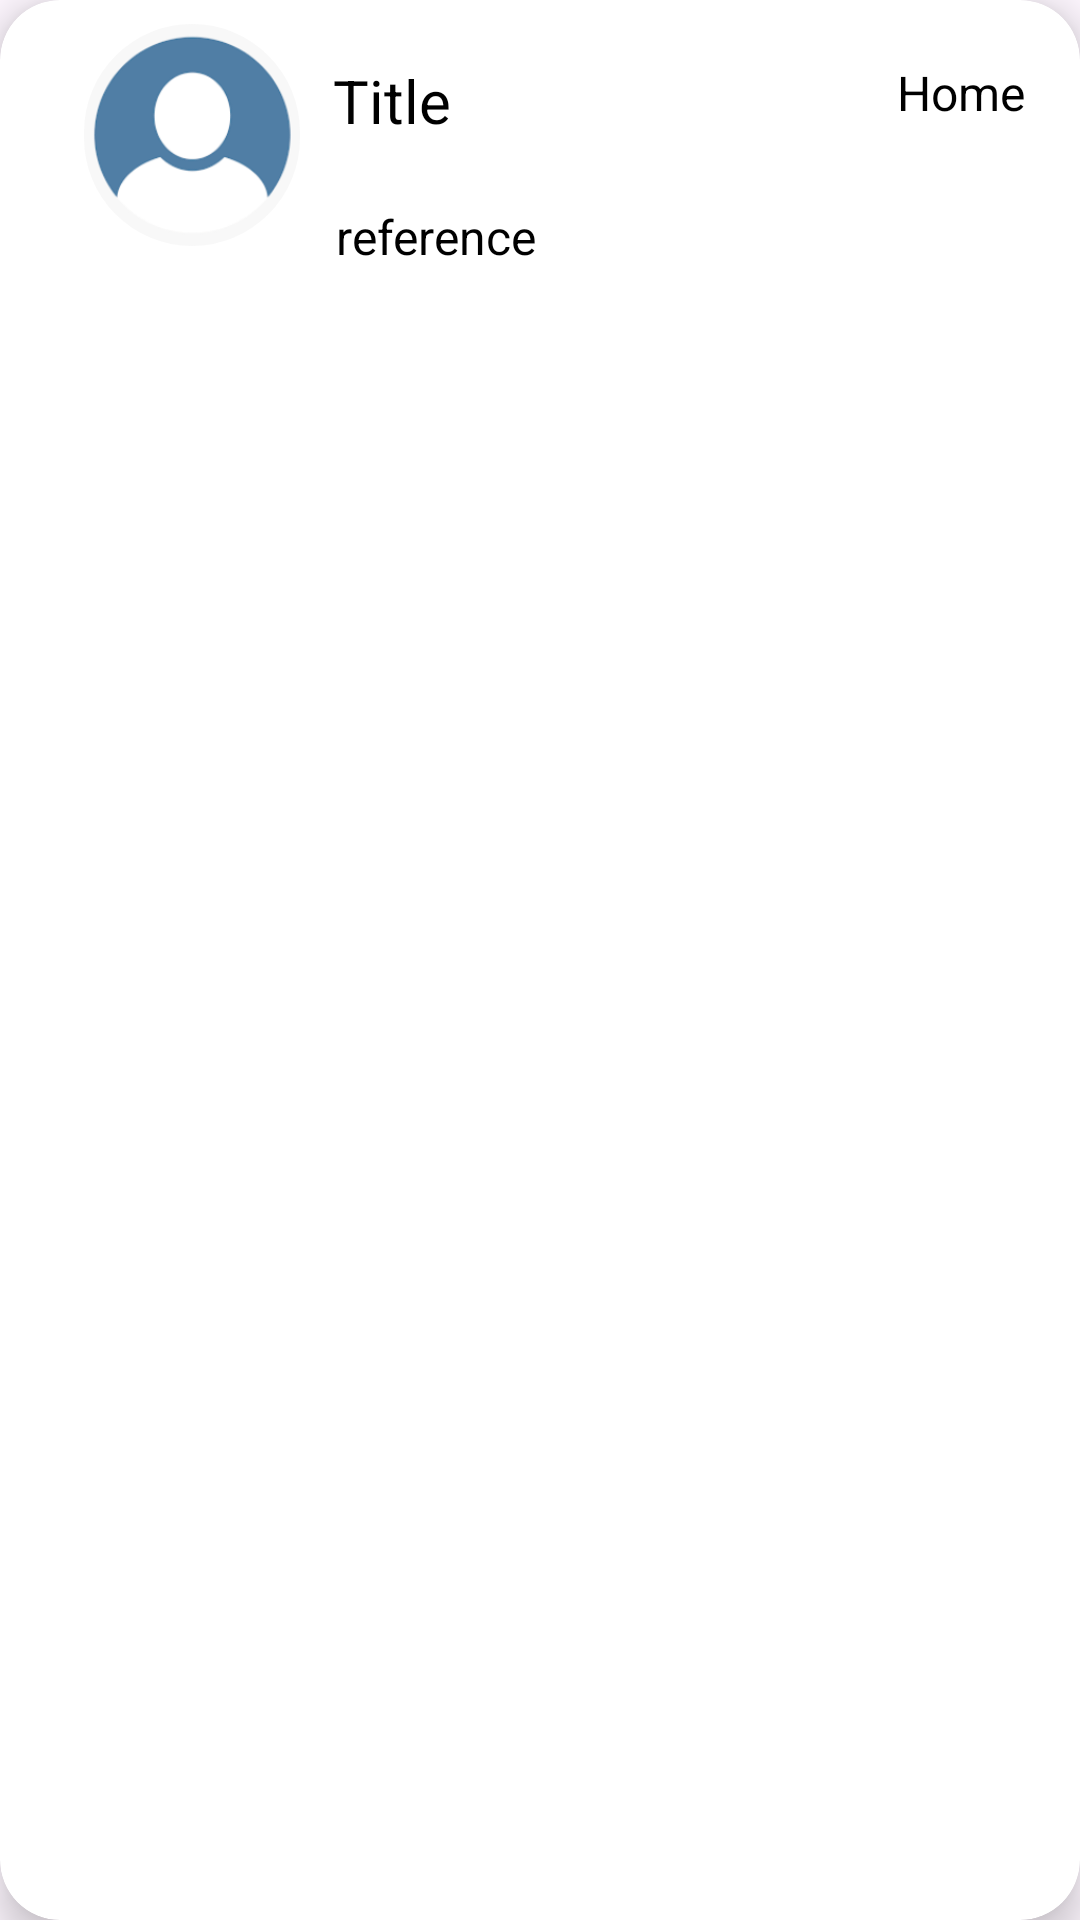

Named icons in this screenshot (1080×1920) and their centers, (x,y):
client: (192,116)
